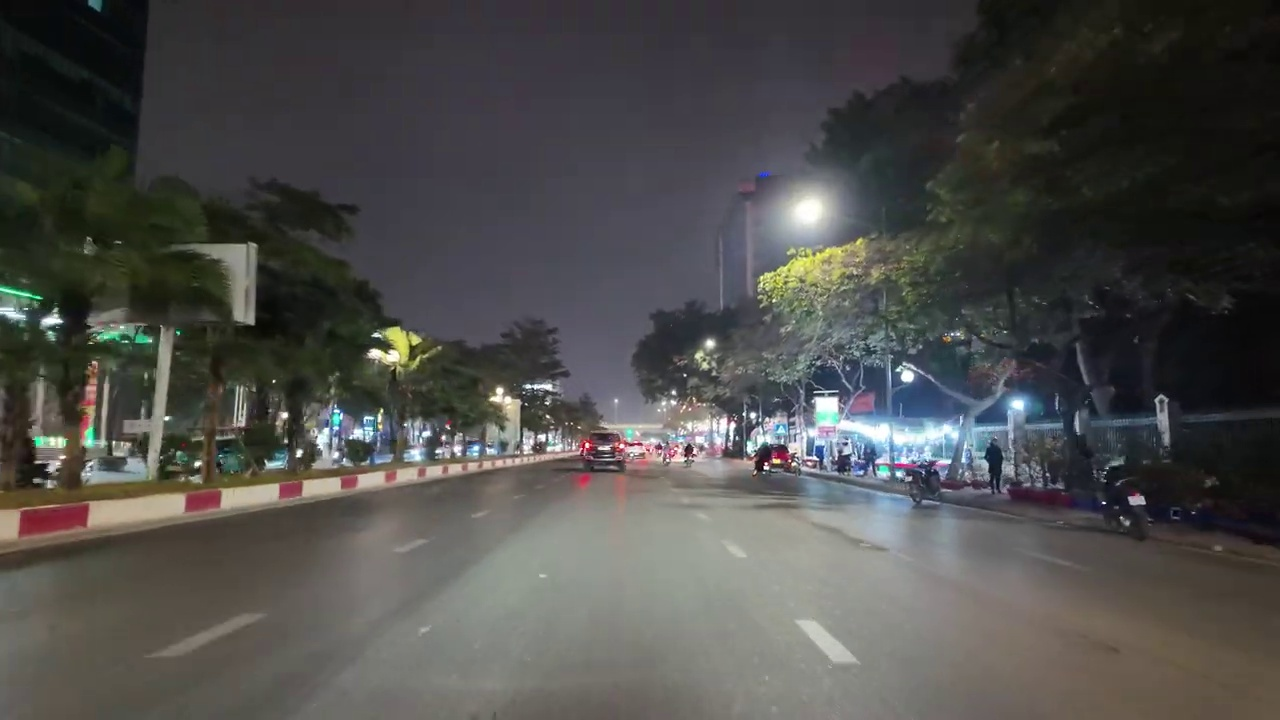acesa: (786, 190, 828, 229)
